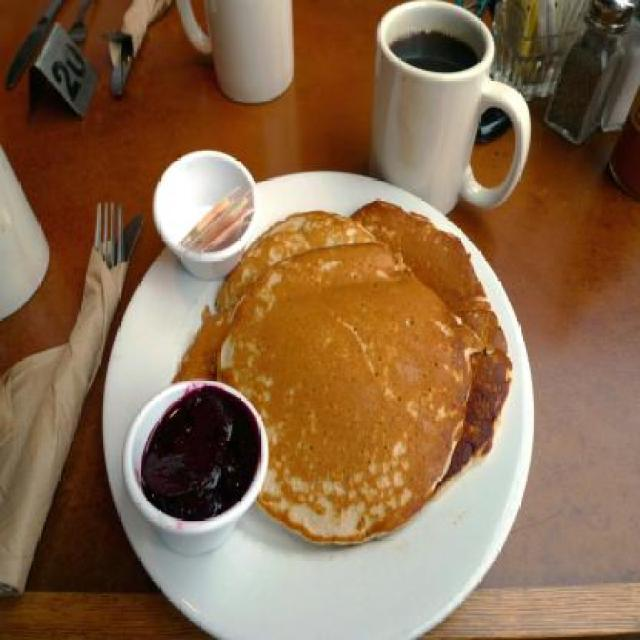Pancake: (210, 200, 492, 538)
